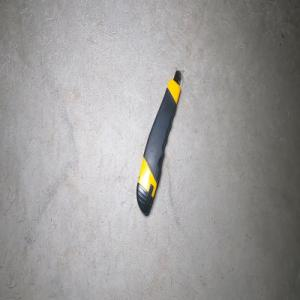Cutter: (135, 69, 182, 215)
